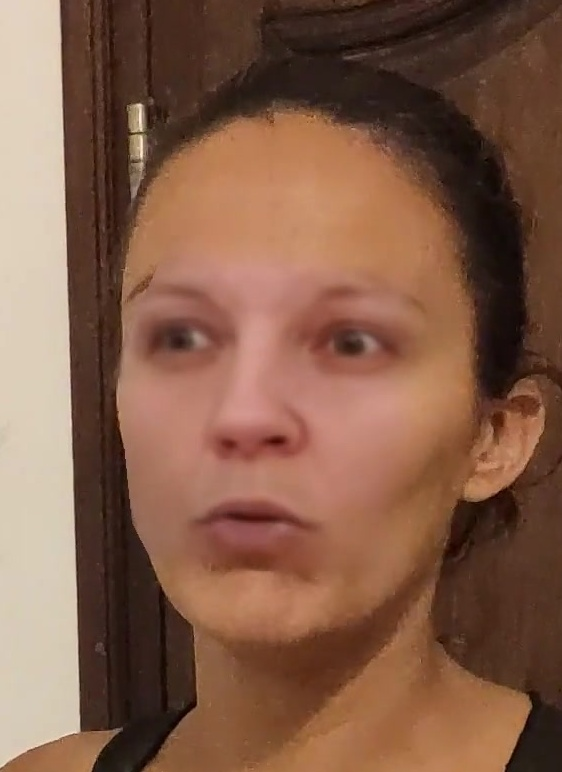eb_f: (120, 261, 441, 385)
